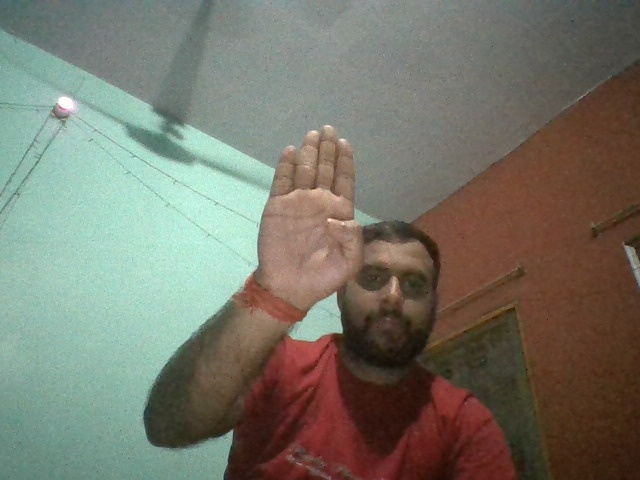hello: (257, 124, 363, 294)
